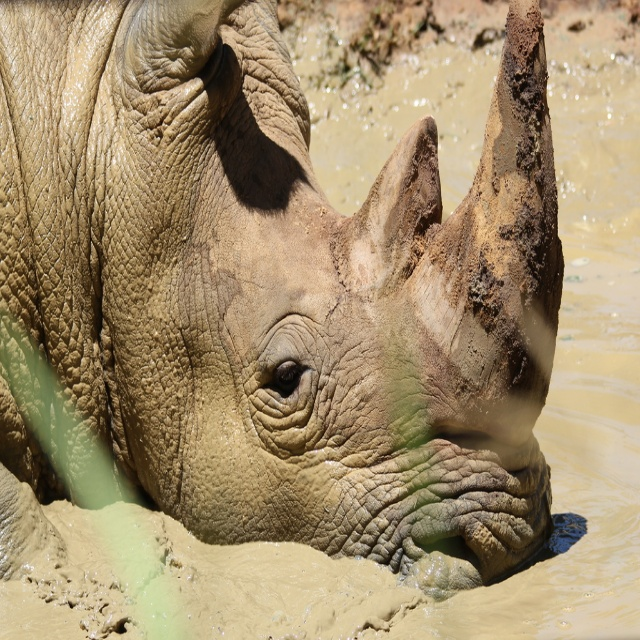Rhinoceros: (0, 0, 570, 580)
